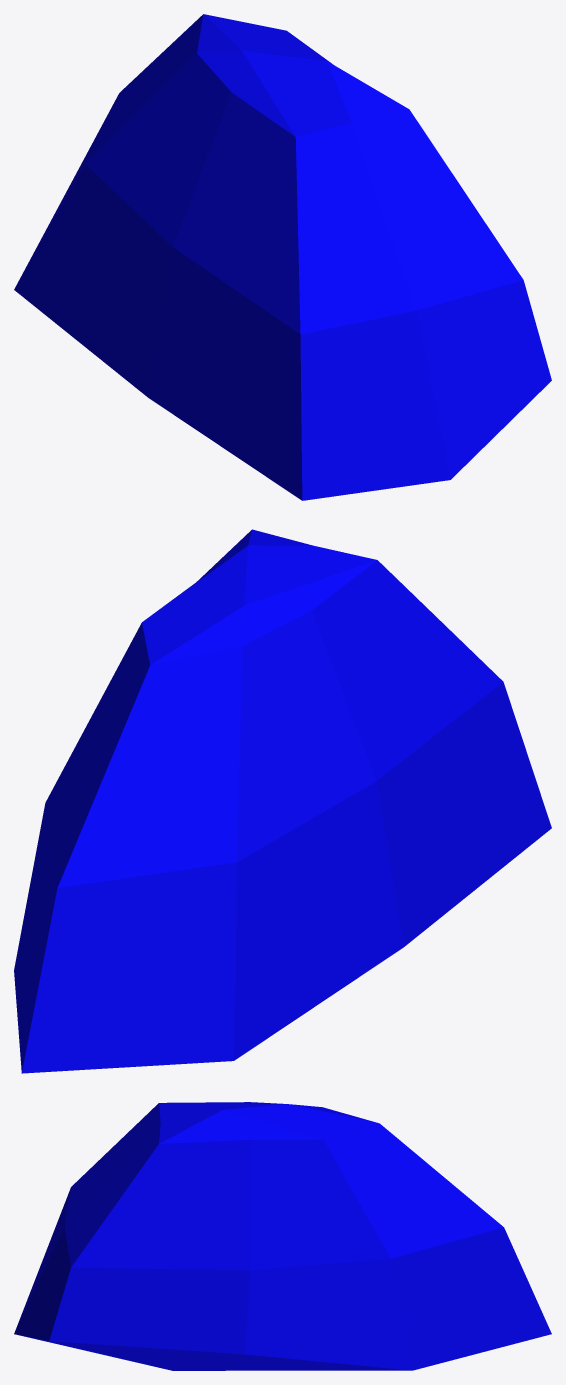
The model's file is Blue_Crystal_03.fbx.
3 views of the same model, one above another, from view 1: azimuth 30°, elevation 25°; view 2: azimuth 150°, elevation 25°; view 3: azimuth 270°, elevation 25° (orthographic). The views are drawn at different scales.
Parts seen in each view (by area): view 1: Blue_Crystal_03; view 2: Blue_Crystal_03; view 3: Blue_Crystal_03.
Boxes of the visible parts, x1=… form: Blue_Crystal_03: x1=14, y1=14, x2=551, y2=500; Blue_Crystal_03: x1=14, y1=529, x2=551, y2=1073; Blue_Crystal_03: x1=14, y1=1102, x2=551, y2=1370.
Bounding box in the file's own units: 2.72 × 3.16 × 5.63.
